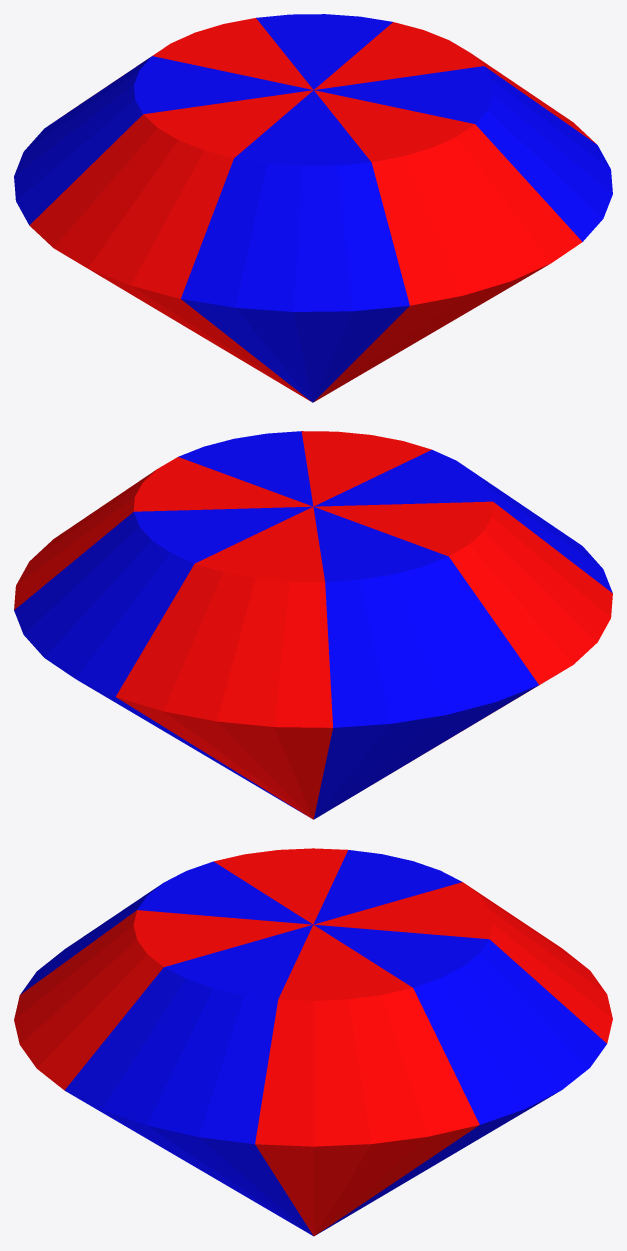
Rendered from diamond.gltf.
The picture shows the model from 3 angles, top to bottom: view 1: azimuth 30°, elevation 25°; view 2: azimuth 150°, elevation 25°; view 3: azimuth 270°, elevation 25°; orthographic projection.
Parts seen in each view (by area): view 1: Diamond; view 2: Diamond; view 3: Diamond.
Boxes of the visible parts, x1=… form: Diamond: x1=14, y1=14, x2=612, y2=402; Diamond: x1=14, y1=431, x2=612, y2=819; Diamond: x1=14, y1=848, x2=612, y2=1236.
Size of the model in its own units: 7.49 by 4.31 by 7.49.
